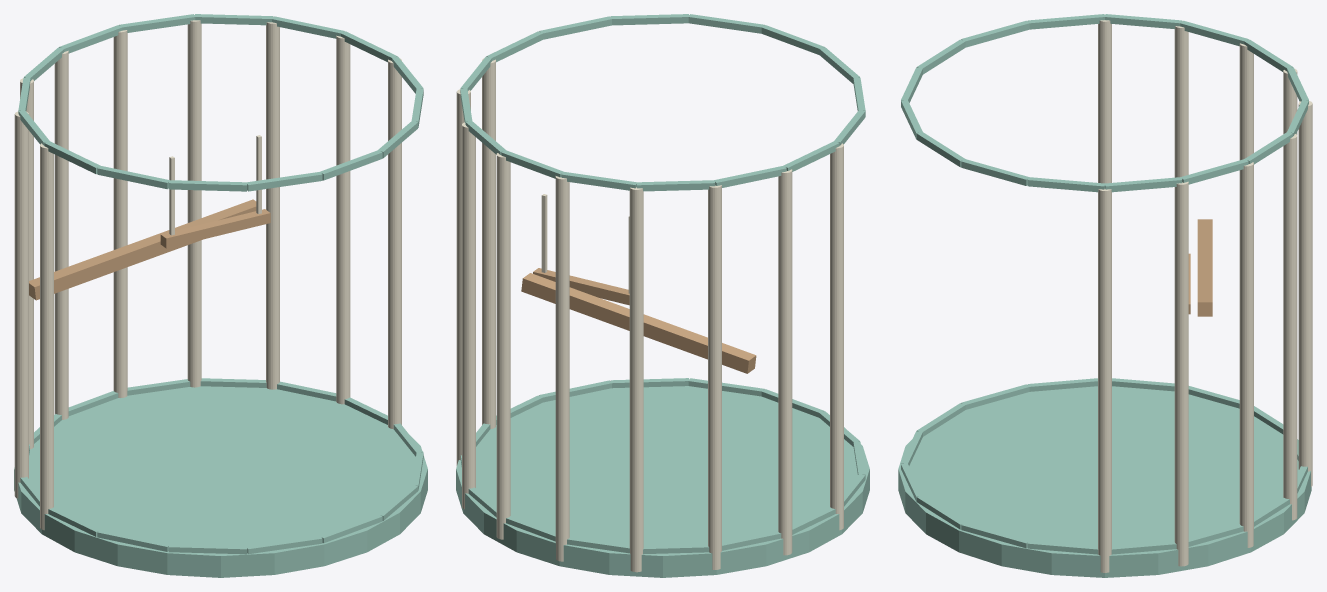
Rendered from aviary.glb.
3 renders of one model, left to right at view 1: azimuth 30°, elevation 25°; view 2: azimuth 150°, elevation 25°; view 3: azimuth 270°, elevation 25°, orthographic.
Parts seen in each view (by area): view 1: pavilion floor, pavilion upright, perch branch, swing perch, swing rope; view 2: pavilion floor, pavilion upright, perch branch, swing perch, swing rope; view 3: pavilion floor, pavilion upright, perch branch.
Part boxes in pixels (<box>): pavilion floor: <box>14,14,427,577</box>; pavilion upright: <box>14,20,401,530</box>; perch branch: <box>29,199,256,300</box>; swing perch: <box>160,209,270,248</box>; swing rope: <box>169,135,261,235</box>; pavilion floor: <box>456,14,869,577</box>; pavilion upright: <box>456,58,843,572</box>; perch branch: <box>521,273,756,373</box>; swing perch: <box>533,268,629,305</box>; swing rope: <box>541,194,629,293</box>; pavilion floor: <box>898,14,1311,577</box>; pavilion upright: <box>1098,20,1312,572</box>; perch branch: <box>1197,219,1212,316</box>.
Bounding box in the file's own units: 2.07 × 2.15 × 2.06.
